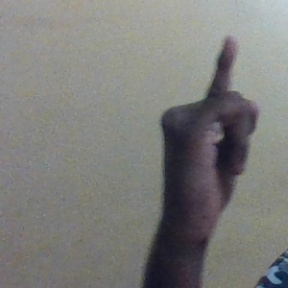I: (157, 34, 261, 221)
